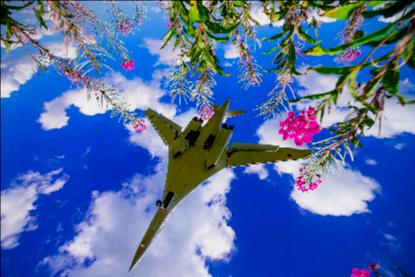Su34: (128, 96, 312, 274)
